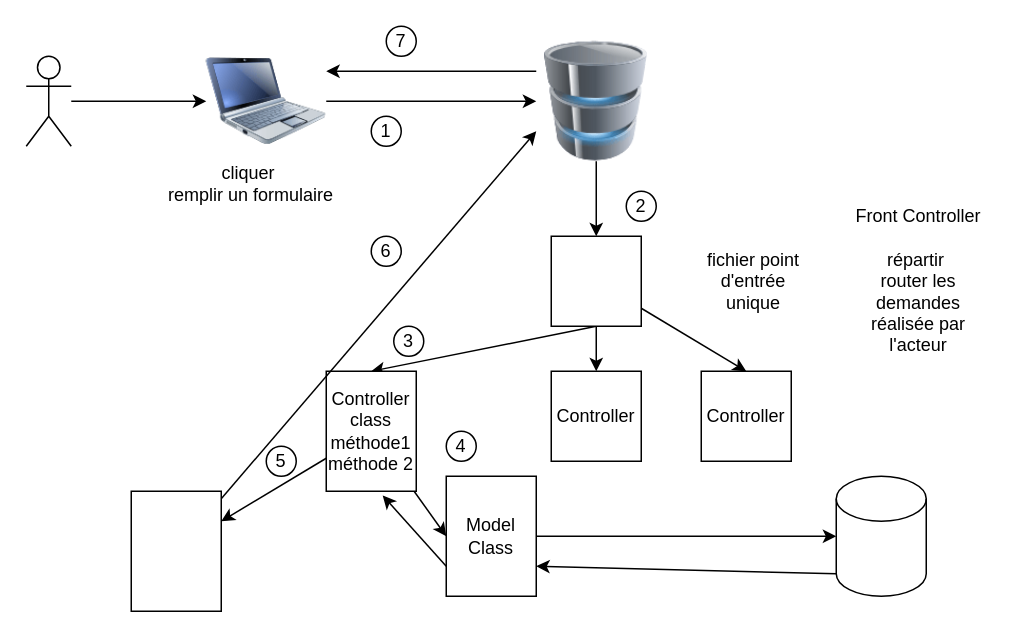
Image size: 1013x638. Some labels were removed from this diagram. The shapes that lost their labels are listed below. From the top down, each one's centre as x and y in pixels, then its label:
At point (48, 100): "Actor".
At point (595, 280): "index.php".
At point (175, 550): "Vue html / css js".
At point (880, 535): "bdd".
